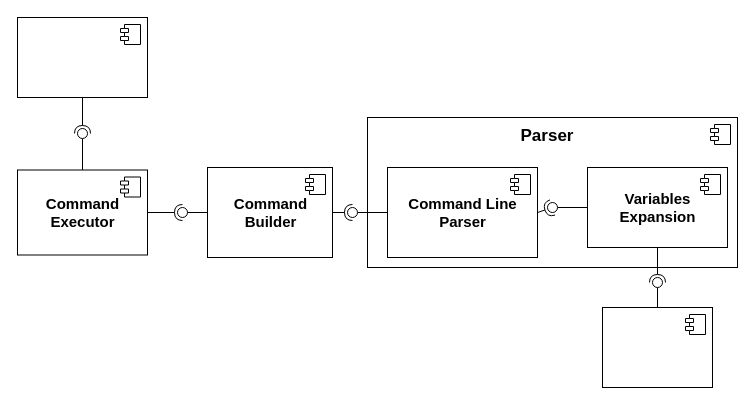
Some shapes in this 755 by 405 pixel diagram are drawn without their labels. Each missing label, with the box of its shape:
Environment: (602, 306, 712, 388)
User Interaction: (16, 16, 148, 98)
